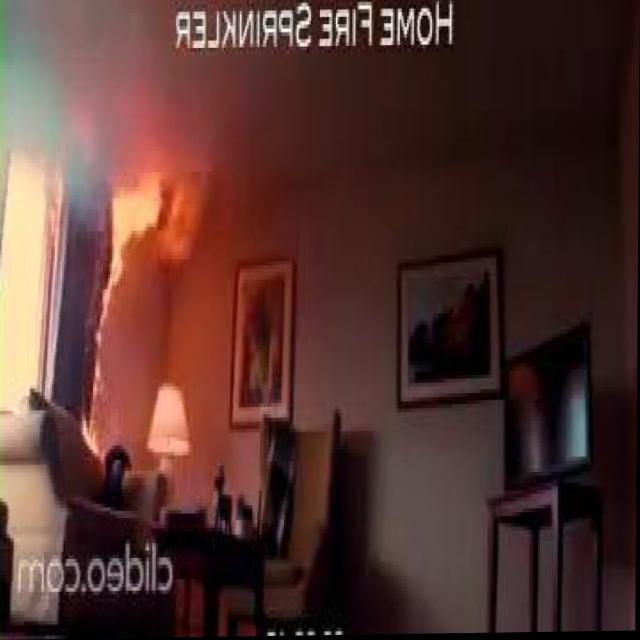fire: (100, 165, 207, 290), (83, 250, 125, 446), (34, 131, 65, 243)
